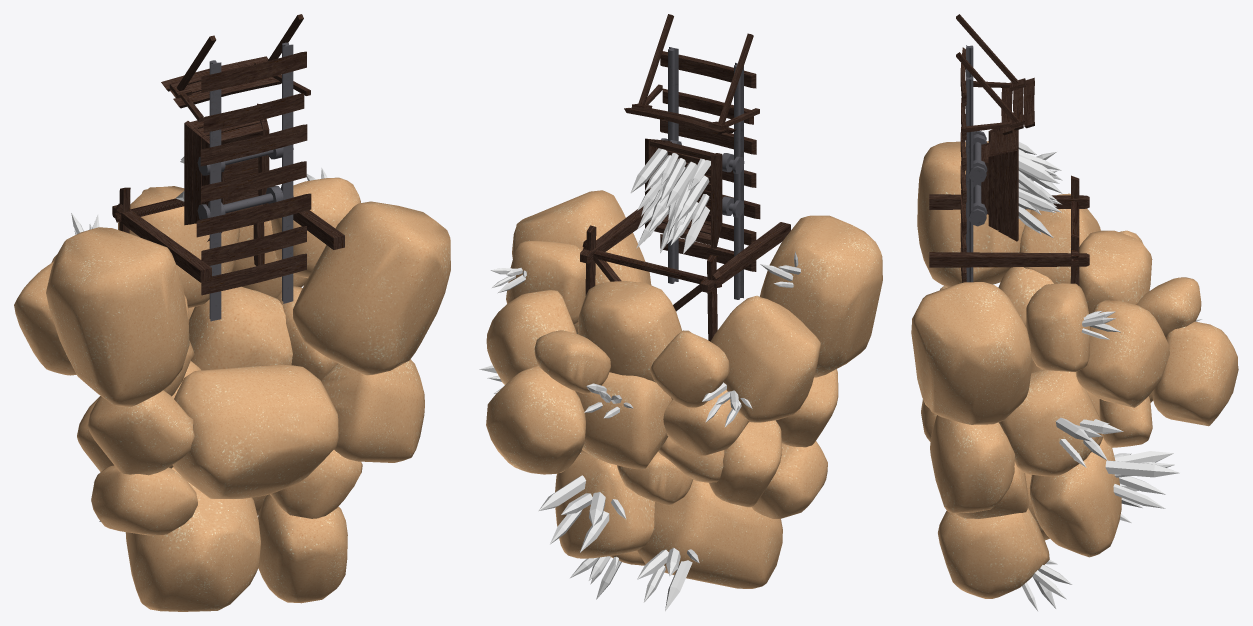
File: mine.fbx
3 renders of one model, left to right at view 1: azimuth 30°, elevation 25°; view 2: azimuth 150°, elevation 25°; view 3: azimuth 270°, elevation 25°, orthographic. The views are drawn at different scales.
Parts seen in each view (by area): view 1: kamenmaly1_lp.005, Cube.046, Cube.015, Cube.020, Cube.058; view 2: kamenmaly1_lp.005, Cube.046, Cylinder.001, Cube.020, Cylinder.008, Cube.015, Cube.058; view 3: kamenmaly1_lp.005, Cylinder.001, Cube.015, Cube.020, Cube.058, Cube.046, Cylinder.008.
Boxes of the visible parts, x1,y1,x2,y2 form: kamenmaly1_lp.005: (14, 177, 450, 611); Cube.046: (196, 42, 311, 321); Cube.015: (184, 103, 293, 225); Cube.020: (112, 186, 344, 282); Cube.058: (161, 14, 310, 122); kamenmaly1_lp.005: (486, 190, 882, 588); Cube.046: (660, 47, 760, 299); Cylinder.001: (479, 251, 800, 611); Cube.020: (580, 206, 790, 341); Cylinder.008: (630, 148, 710, 253); Cube.015: (645, 138, 744, 248); Cube.058: (624, 14, 759, 134); kamenmaly1_lp.005: (911, 141, 1238, 598); Cylinder.001: (1022, 152, 1202, 610); Cube.015: (968, 128, 1018, 241); Cube.020: (929, 175, 1089, 285); Cube.058: (956, 14, 1034, 135); Cube.046: (960, 45, 973, 282); Cylinder.008: (1018, 142, 1062, 237).
Size of the model in its own units: 765 by 1165 by 634.
